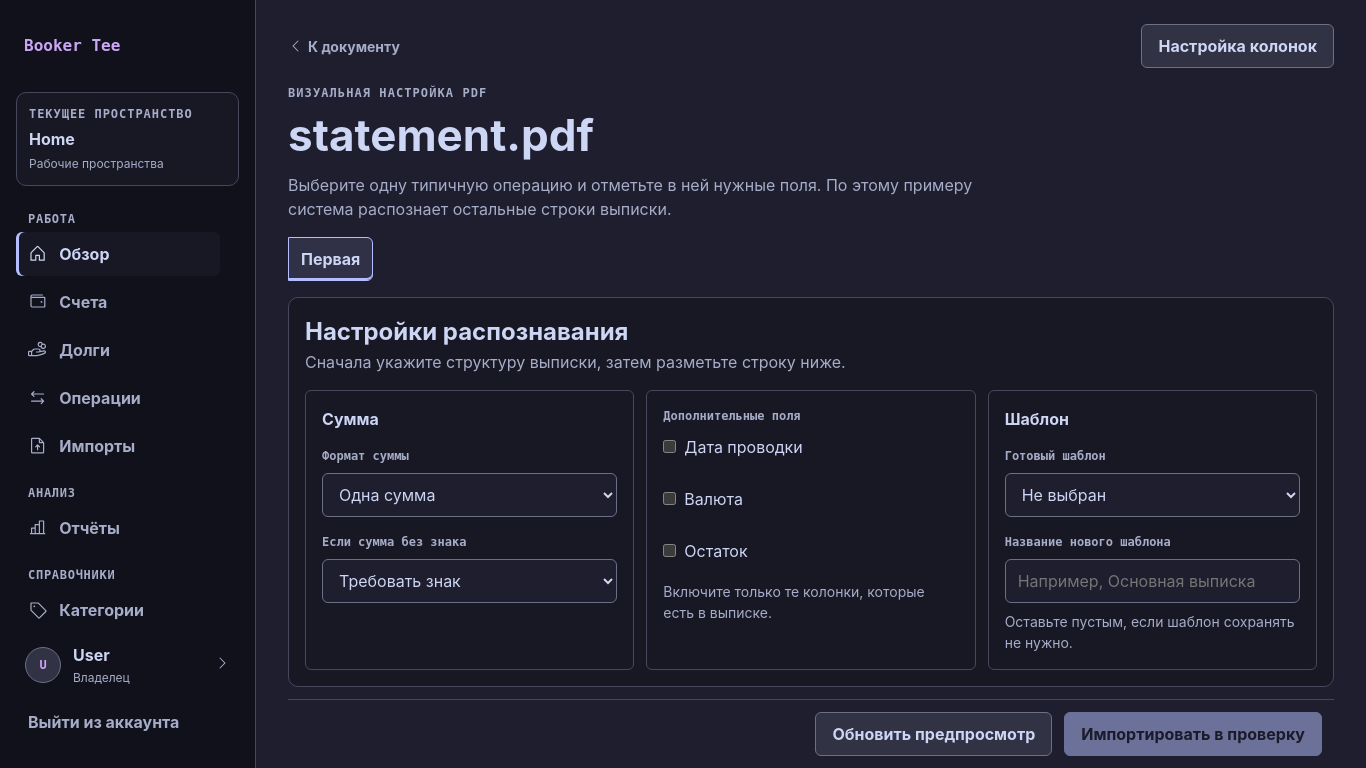
VisualCoordinateMappingPage capability › resets an incompatible template to the current PDF draft
Select "Incompatible template" in the dropdown labelled "Готовый шаблон" at [1152, 495], box [1005,473,1300,517]
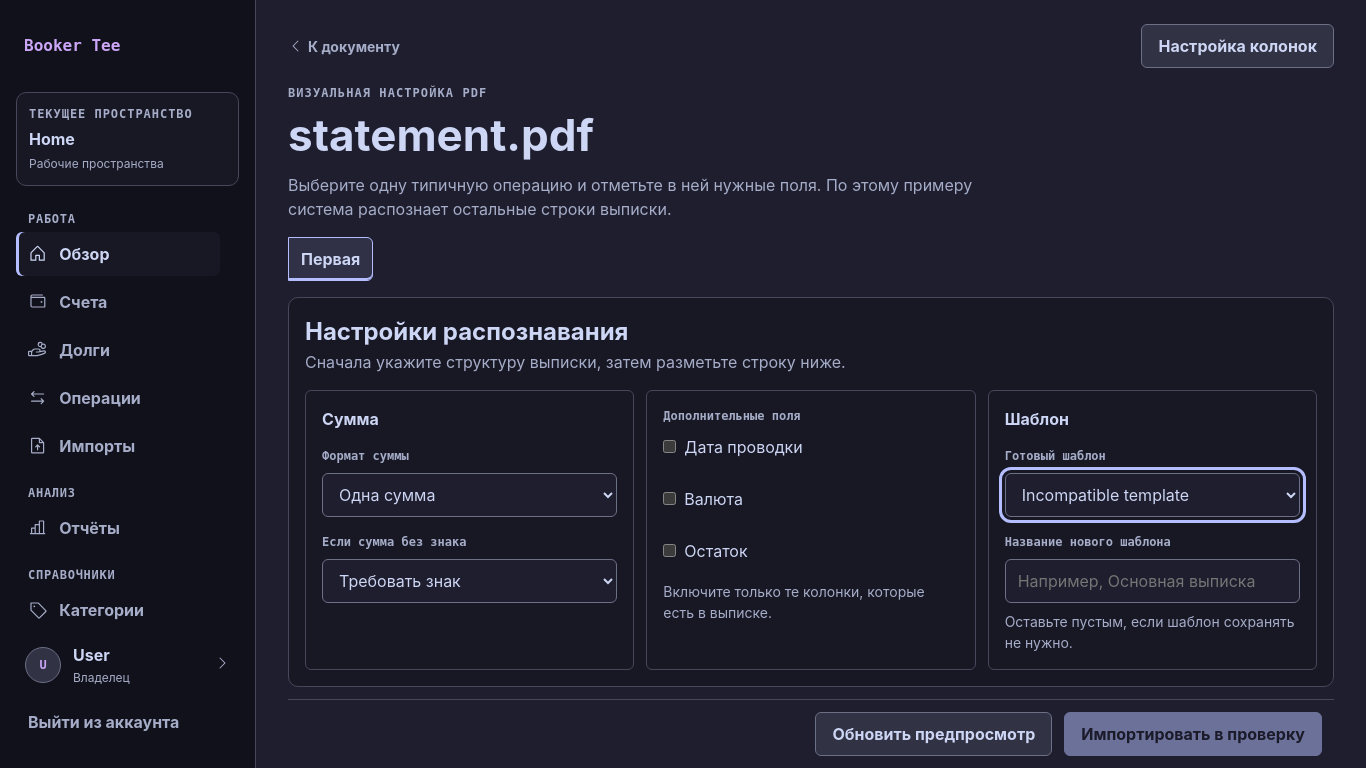
Click the button "Обновить предпросмотр" at [934, 734], box [816,712,1052,756]
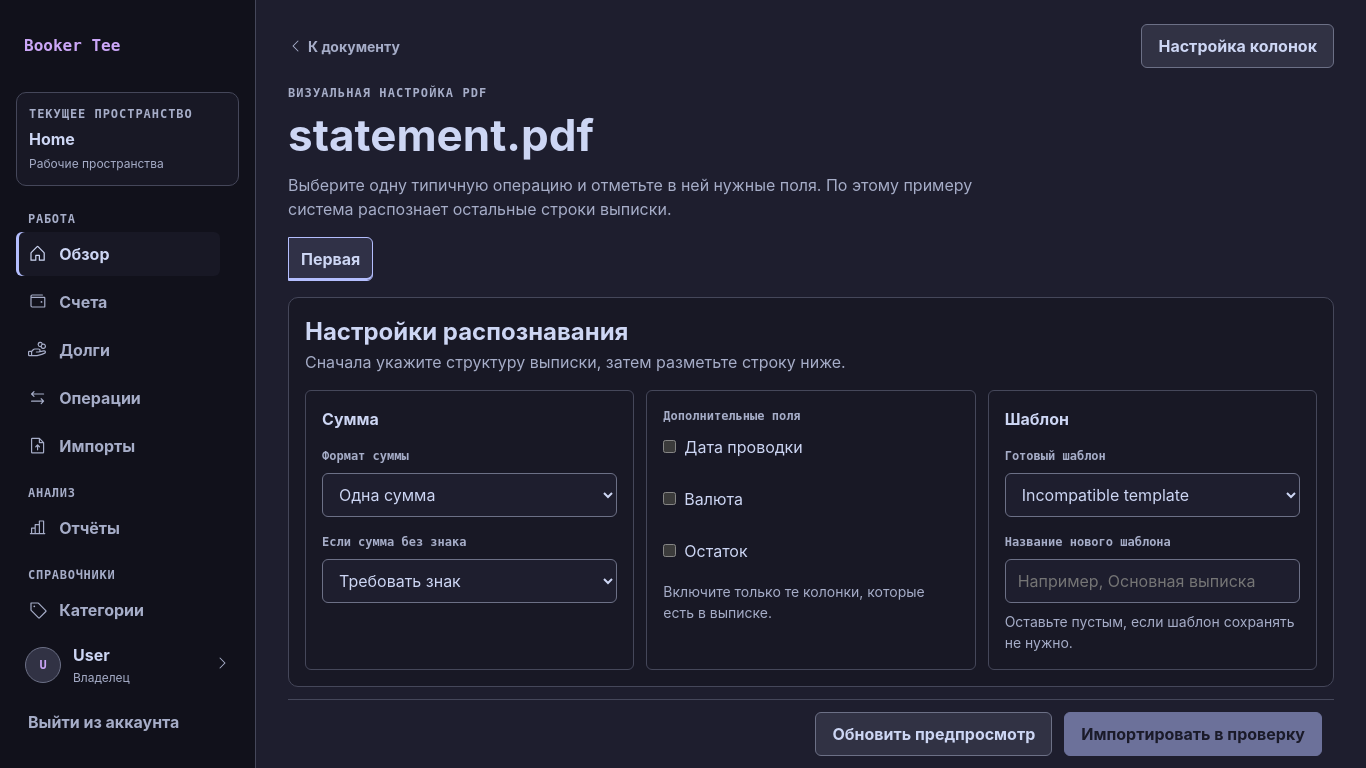
Expected: the button "Импортировать в проверку" is disabled, [1064,712,1322,756]
Select "Не выбран" in the dropdown labelled "Готовый шаблон" at [1152, 495], box [1005,473,1300,517]
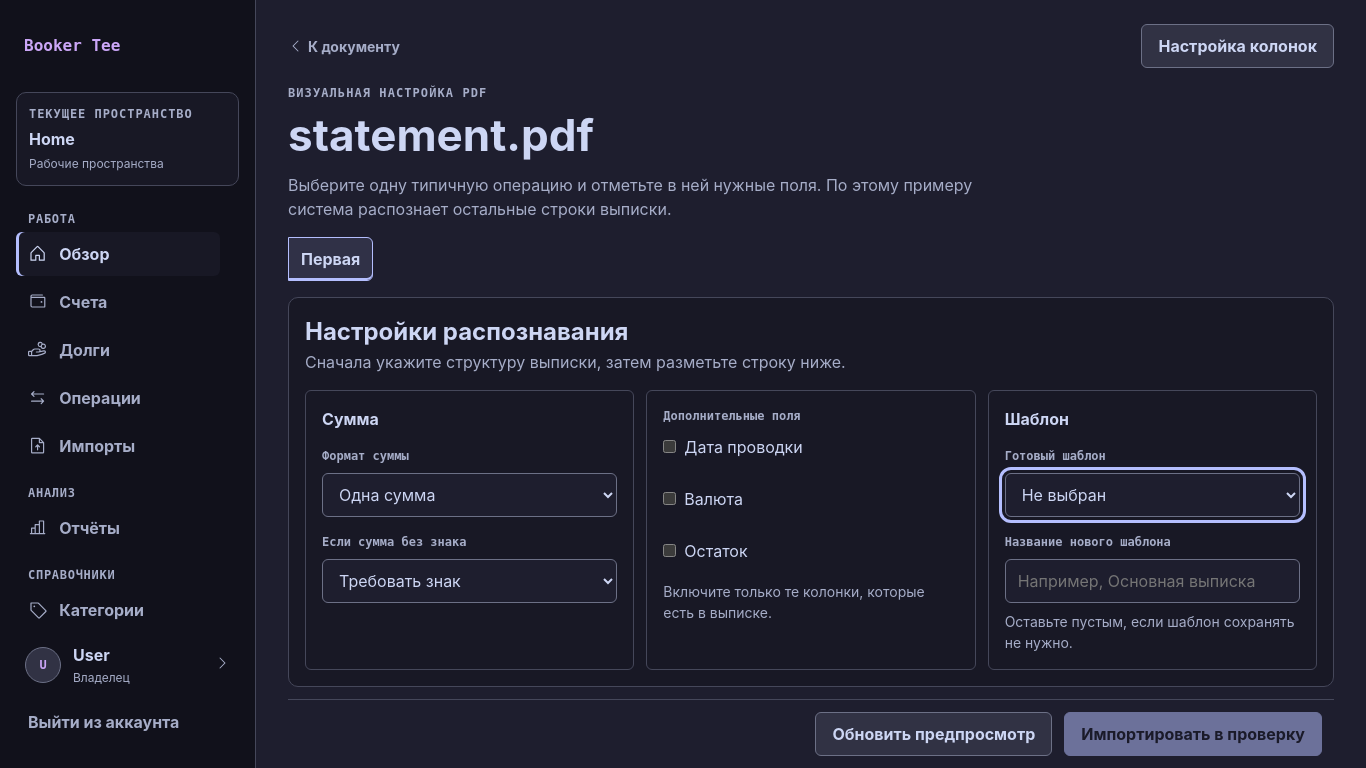
Click the button "Обновить предпросмотр" at [934, 734], box [816,712,1052,756]
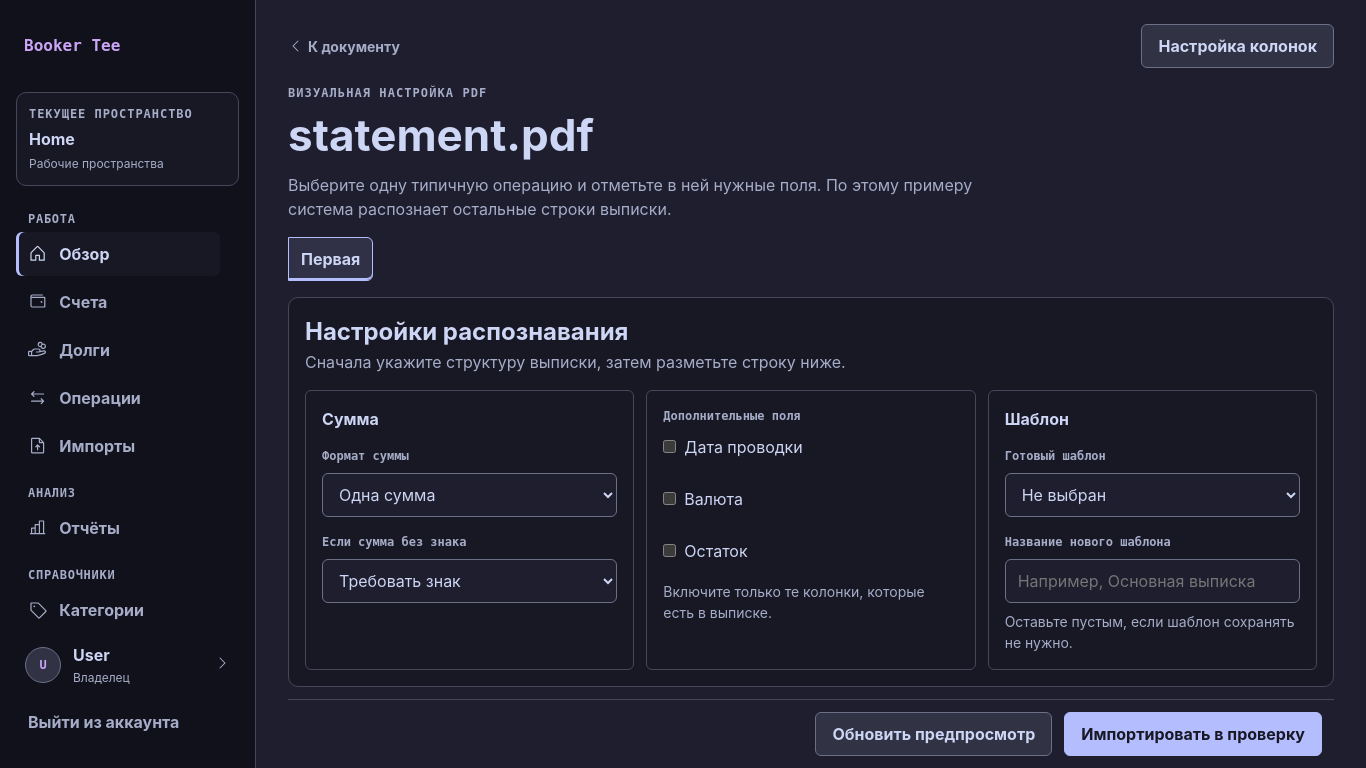
Now the button "Импортировать в проверку" is enabled, box [1064,712,1322,756]
